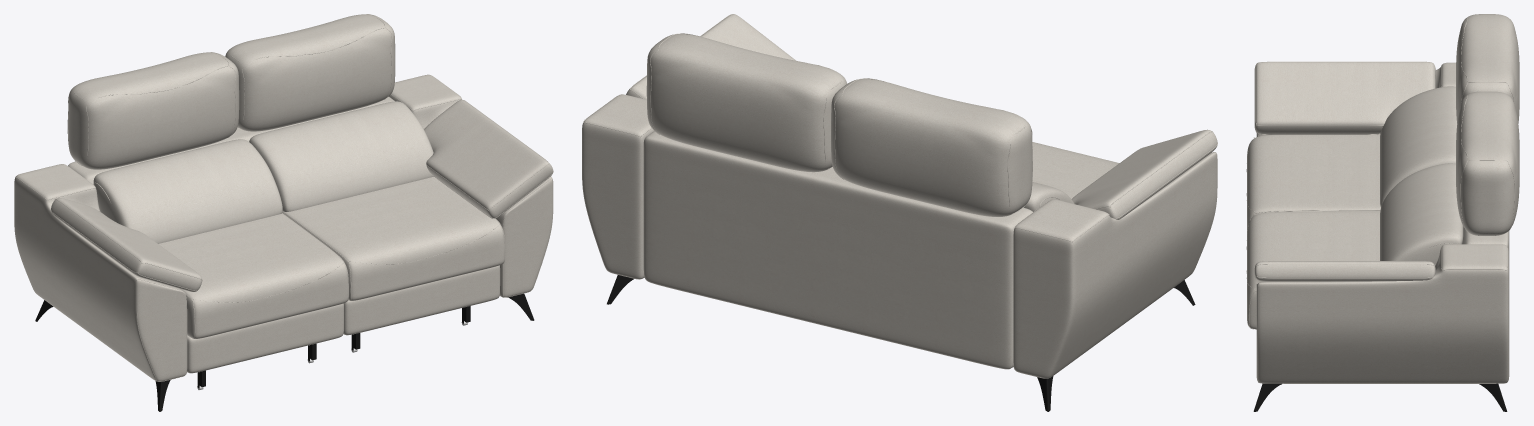
File: 2arm2seats.glb
3 renders of one model, left to right at view 1: azimuth 30°, elevation 25°; view 2: azimuth 150°, elevation 25°; view 3: azimuth 270°, elevation 25°, orthographic. The views are drawn at different scales.
Parts seen in each view (by area): view 1: assento (×2), Cabeça (×2), object 14, object 25, object 22, object 17, object 26, object 7, Costa; view 2: Costa, Cabeça (×2), object 14, object 26, object 7, assento, object 17, object 25; view 3: object 26, assento (×2), Cabeça (×2), object 7, object 22, object 25, object 17, pe (×2), Costa, object 14, D=~ 0,00 m.
Part boxes in pixels (bbox=[...]): assento (×2): bbox=[158, 176, 504, 389]; Cabeça (×2): bbox=[68, 14, 395, 169]; object 14: bbox=[14, 164, 186, 381]; object 25: bbox=[93, 139, 282, 243]; object 22: bbox=[249, 101, 433, 211]; object 17: bbox=[424, 99, 553, 218]; object 26: bbox=[389, 74, 552, 297]; object 7: bbox=[51, 198, 202, 291]; Costa: bbox=[68, 96, 394, 210]; Costa: bbox=[643, 131, 1032, 369]; Cabeça (×2): bbox=[646, 34, 1032, 216]; object 14: bbox=[1013, 152, 1217, 378]; object 26: bbox=[582, 94, 653, 279]; object 7: bbox=[1071, 129, 1217, 219]; assento: bbox=[1012, 142, 1119, 367]; object 17: bbox=[626, 14, 795, 99]; object 25: bbox=[1024, 182, 1074, 211]; object 26: bbox=[1256, 244, 1509, 383]; assento (×2): bbox=[1247, 134, 1380, 384]; Cabeça (×2): bbox=[1456, 14, 1519, 235]; object 7: bbox=[1254, 62, 1435, 134]; object 22: bbox=[1380, 163, 1463, 265]; object 25: bbox=[1380, 86, 1457, 206]; object 17: bbox=[1254, 261, 1435, 282]; pe (×2): bbox=[1253, 383, 1507, 411]; Costa: bbox=[1462, 227, 1509, 253]; object 14: bbox=[1256, 62, 1455, 136]; D=~ 0,00 m: bbox=[1255, 61, 1434, 126].
Bounding box in the file's own units: 1.98 × 1.04 × 1.1.
Materials: 3 (1 with a texture image).
